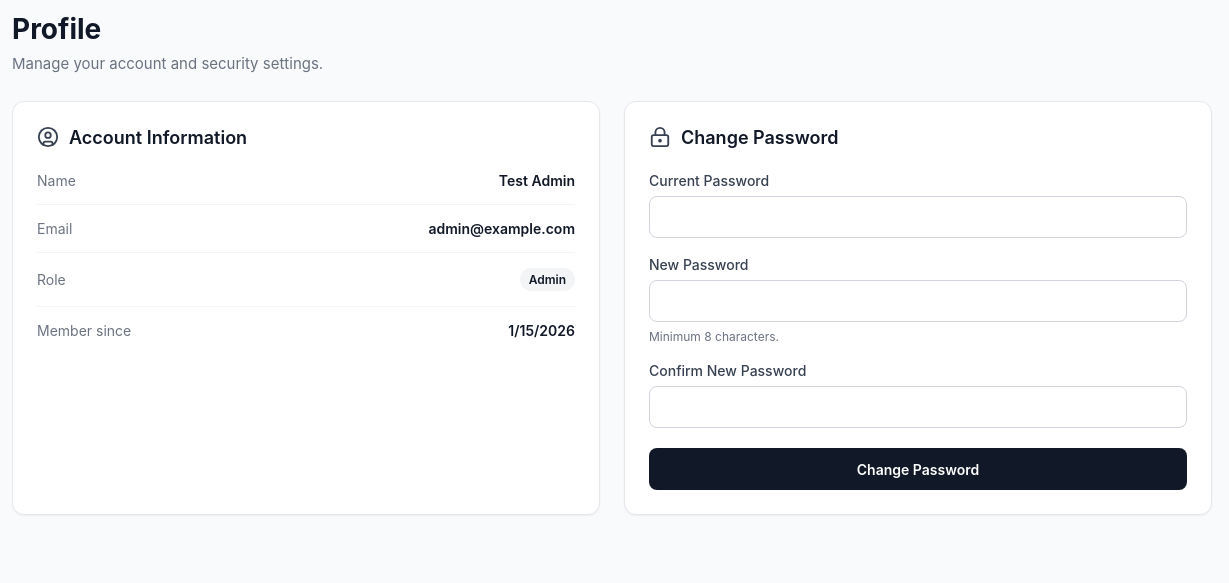
Test: Profile page › changes the password and displays the success message
The width and height of the screenshot is (1229, 583).
Type "CurrentPass123!" into the password field labelled "Current Password" at (918, 217), box [649, 196, 1187, 238]
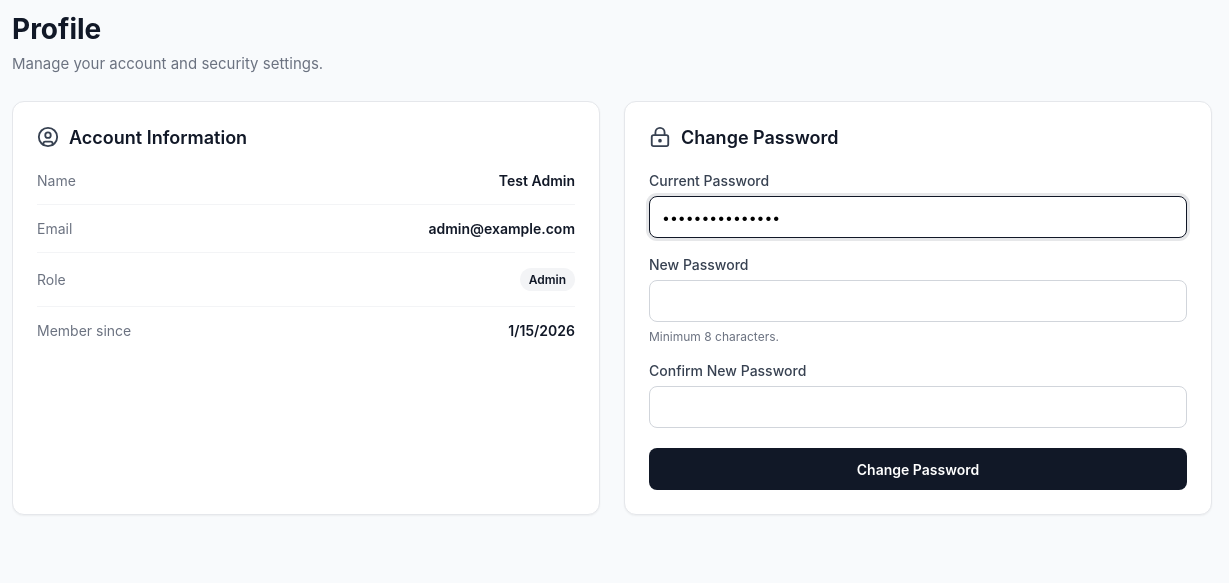
Type "NewPassword123!" into the password field labelled "New Password" at (918, 301), box [649, 280, 1187, 322]
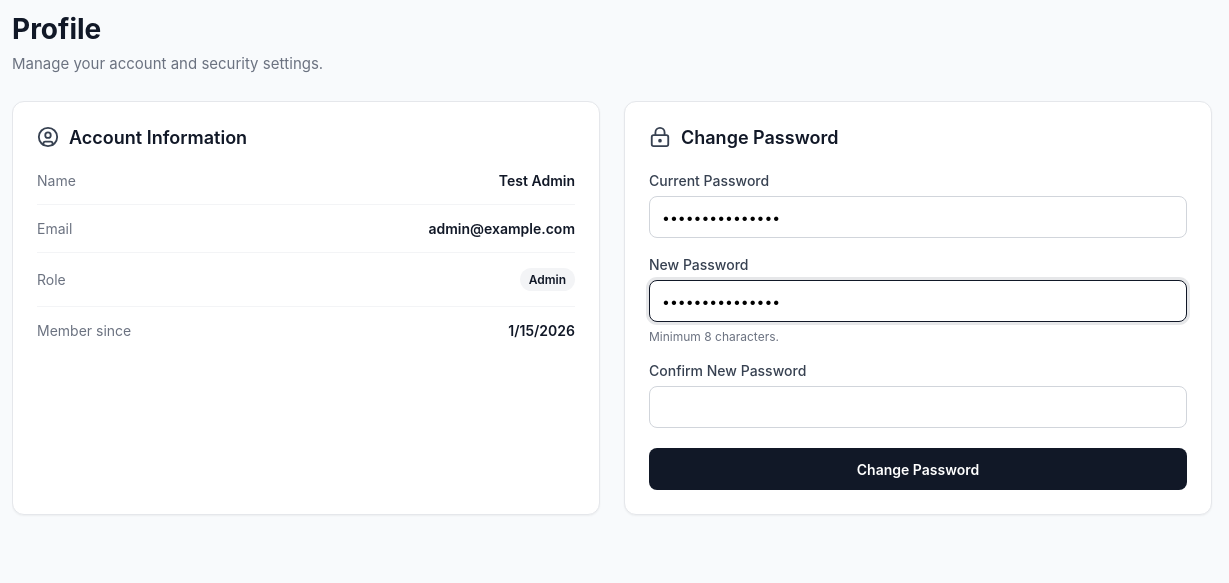
Type "NewPassword123!" into the password field labelled "Confirm New Password" at (918, 407), box [649, 386, 1187, 428]
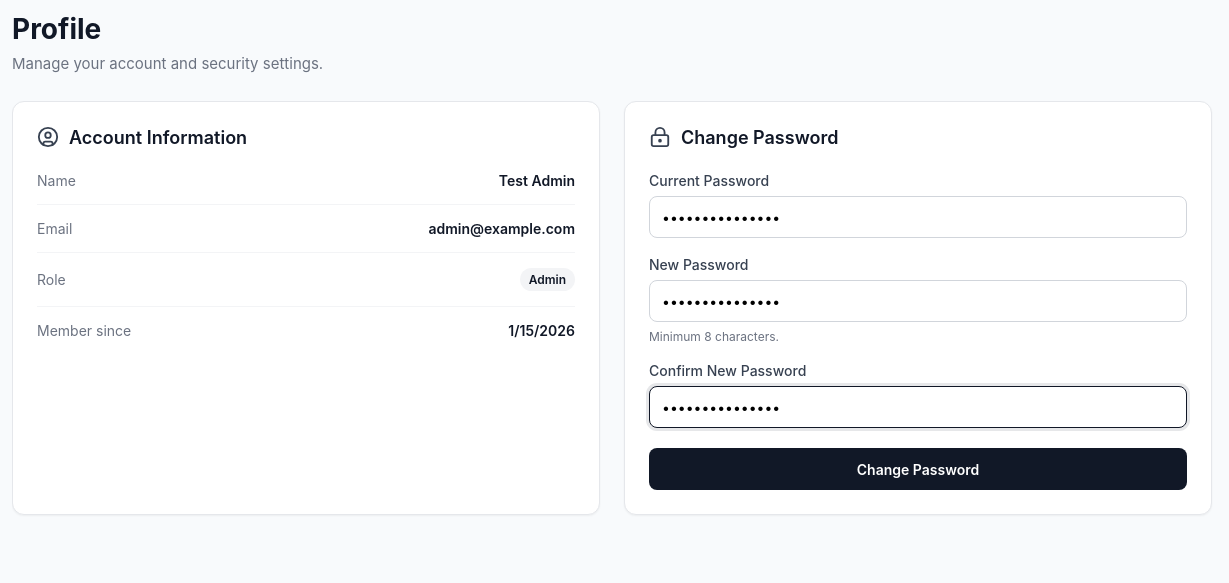
Click the button "Change Password" at (918, 469), box [649, 448, 1187, 490]
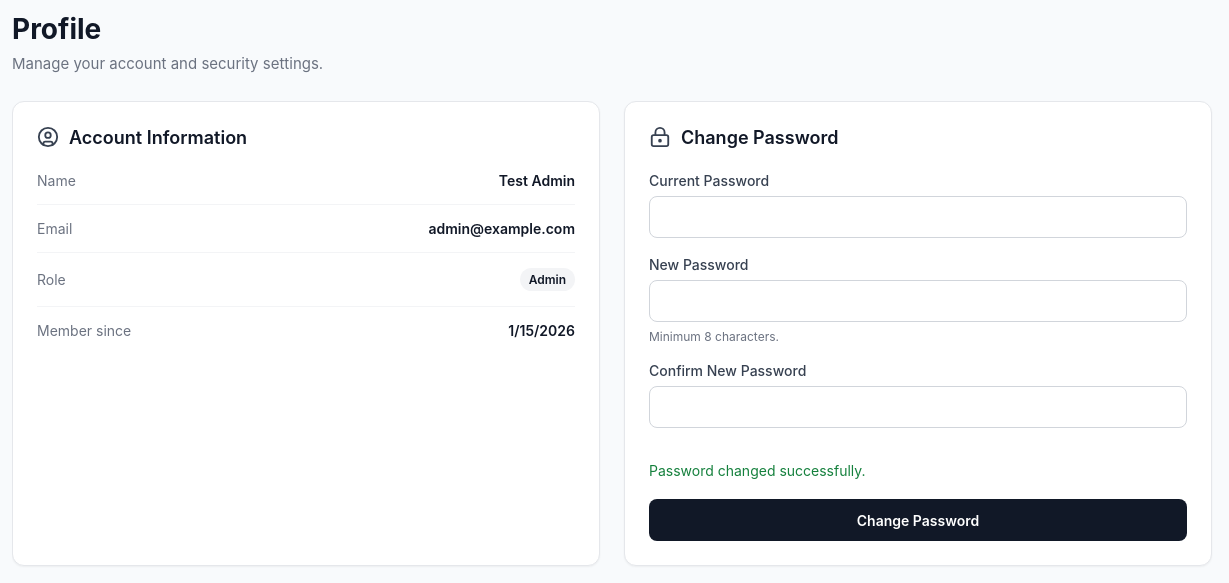
Expected: the text "Password changed successfully." is shown, [649, 462, 866, 479]
Expected: the password field labelled "Current Password" is empty, [649, 196, 1187, 238]
